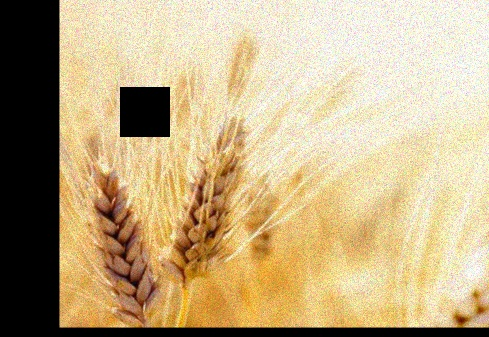wheat: (170, 56, 279, 307), (66, 124, 163, 325)
